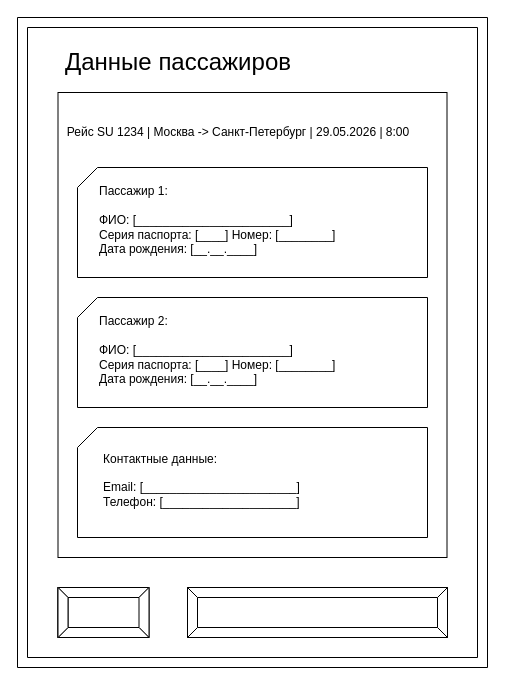
Some shapes in this 505 by 685 pixel diagram are drawn without their labels. Here are the shapes that lost their labels. From the top down, the centre of each, then its label:
At (103,612): "Назад".
At (317,612): "Перейти к оплате".
